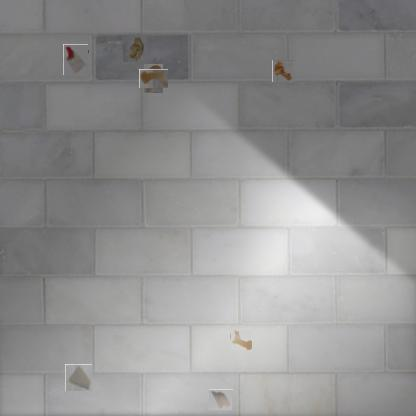dirty: (62, 45, 90, 74), (65, 364, 92, 391), (122, 35, 148, 61), (210, 389, 234, 410), (272, 60, 293, 82)
liquid: (142, 66, 166, 90), (230, 330, 252, 350)
